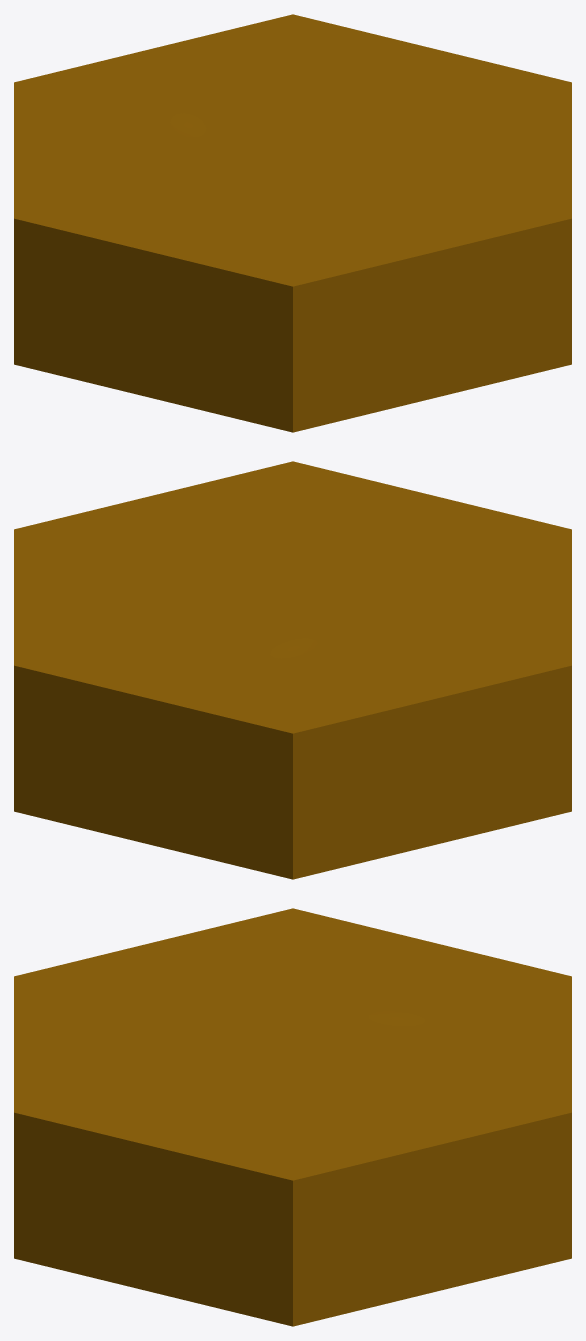
File: tilehex_earth.glb
3 views of the same model, one above another, from view 1: azimuth 30°, elevation 25°; view 2: azimuth 150°, elevation 25°; view 3: azimuth 270°, elevation 25° (orthographic).
Visible parts, largest first — view 1: tile.001; view 2: tile.001; view 3: tile.001.
Part boxes in pixels (x1,y1,x2,y2): tile.001: (14, 14, 571, 432); tile.001: (14, 461, 571, 879); tile.001: (14, 908, 571, 1326).
Bounding box in the file's own units: 0.2 × 0.05 × 0.1732.
Materials: 1 (1 with a texture image).
